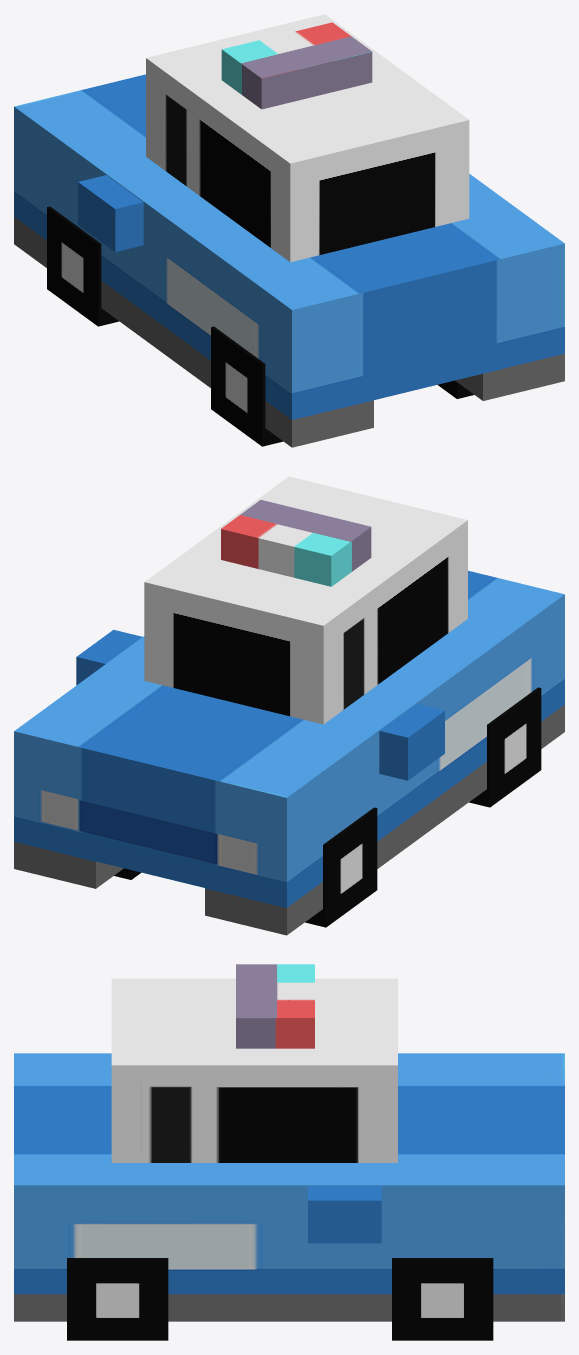
Rendered from police car.fbx.
The picture shows the model from 3 angles, top to bottom: view 1: azimuth 30°, elevation 25°; view 2: azimuth 150°, elevation 25°; view 3: azimuth 270°, elevation 25°; orthographic projection.
Parts seen in each view (by area): view 1: police_car_wiel3; view 2: police_car_wiel3; view 3: police_car_wiel3.
Boxes of the visible parts, x1,y1,x2,y2 form: police_car_wiel3: [14, 14, 564, 447]; police_car_wiel3: [14, 476, 564, 935]; police_car_wiel3: [14, 964, 564, 1340].
Bounding box in the file's own units: 2.03 × 1.66 × 2.94.
5 materials, 5 textured.
